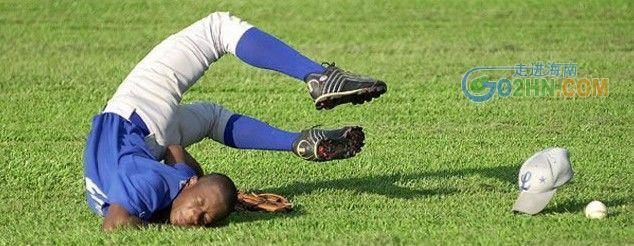Fall-Detected: (55, 8, 379, 231)
